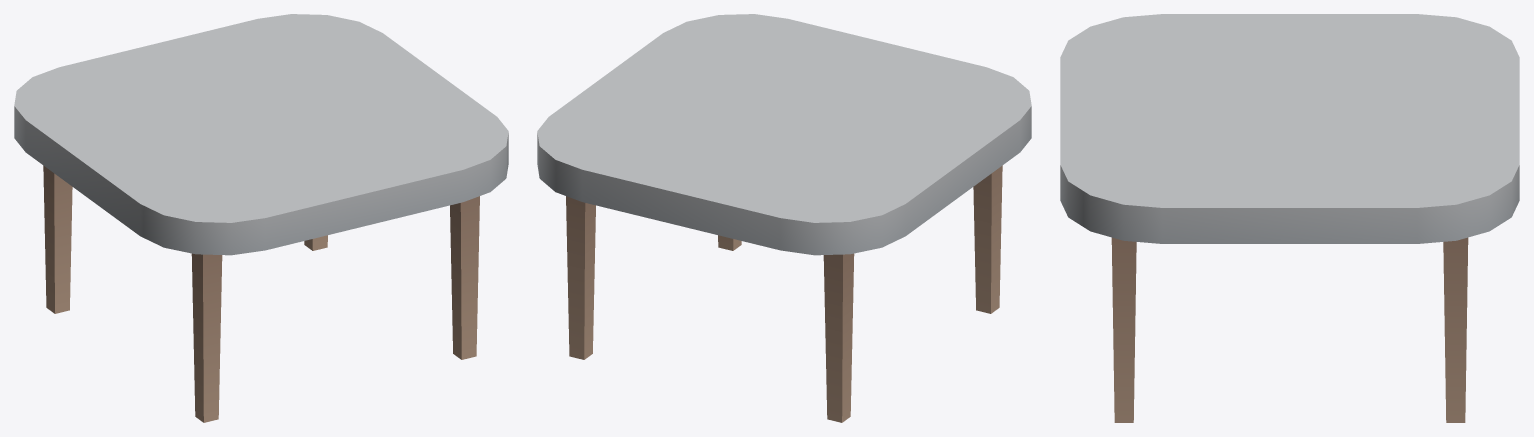
File: table-kitchen-rounded.glb
3 views of the same model, side by side, from view 1: azimuth 30°, elevation 25°; view 2: azimuth 150°, elevation 25°; view 3: azimuth 270°, elevation 25° (orthographic). The views are drawn at different scales.
Parts seen in each view (by area): view 1: table-kitchen-rounded; view 2: table-kitchen-rounded; view 3: table-kitchen-rounded.
Part boxes in pixels (box(x1,y1,x2,y2)): table-kitchen-rounded: box(14, 14, 508, 422); table-kitchen-rounded: box(537, 14, 1031, 422); table-kitchen-rounded: box(1060, 14, 1519, 422).
Bounding box in the file's own units: 0.9 × 0.5146 × 0.9.
